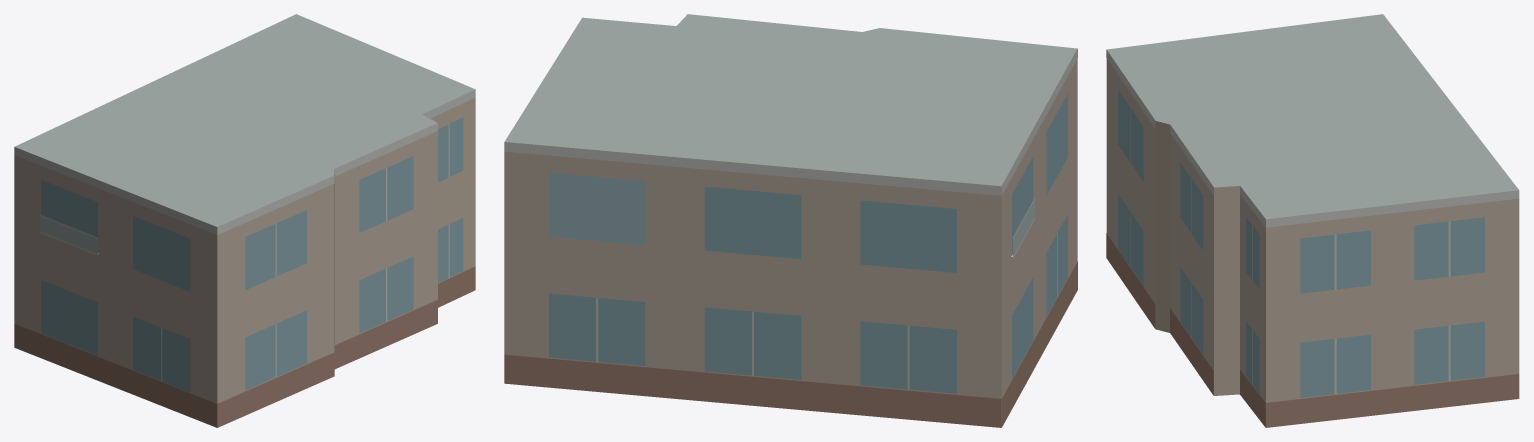
Rendered from survey-upis-32652964.glb.
3 views of the same model, side by side, from view 1: azimuth 30°, elevation 25°; view 2: azimuth 150°, elevation 25°; view 3: azimuth 270°, elevation 25° (orthographic). The views are drawn at different scales.
Parts seen in each view (by area): view 1: survey-upis-32652964.tmp; view 2: survey-upis-32652964.tmp; view 3: survey-upis-32652964.tmp.
Part boxes in pixels (left/top/right/bottom): survey-upis-32652964.tmp: left=14, top=14, right=475, bottom=427; survey-upis-32652964.tmp: left=504, top=14, right=1077, bottom=427; survey-upis-32652964.tmp: left=1106, top=14, right=1519, bottom=427.
Size of the model in its own units: 12.89 by 6.1 by 10.95.
